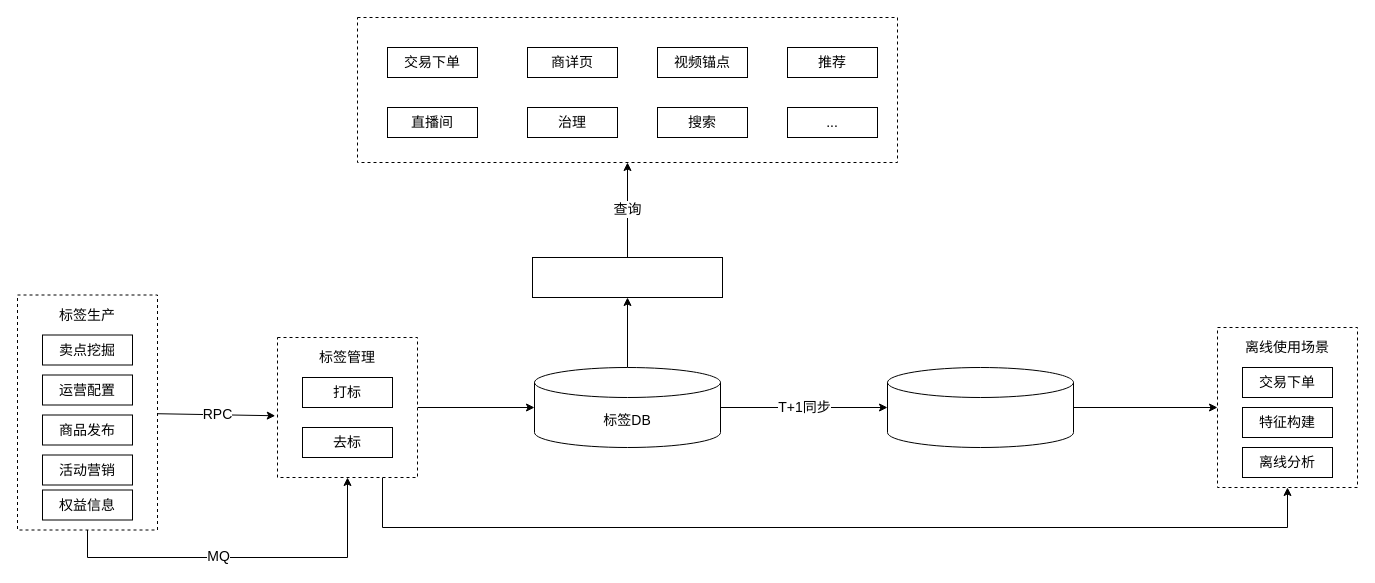
Some shapes in this 1375 by 583 pixel diagram are drawn without their labels. Here are the shapes that lost their labels. From the top down, the centre of each, then its label:
(627,277): 商品模型查询
(980,407): 标签HIVE
